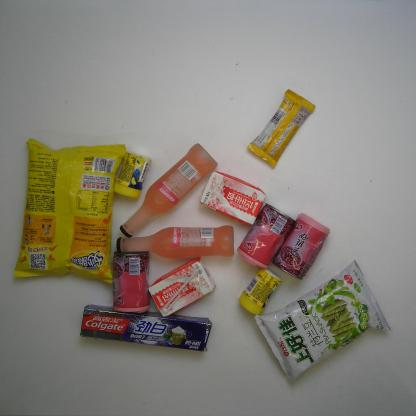Alcohol: (116, 140, 219, 240), (112, 224, 239, 260)
Canned Food: (233, 202, 297, 273), (270, 212, 332, 285), (107, 247, 157, 315)
Chocolate: (245, 88, 318, 170)
Gum: (104, 150, 157, 204), (236, 263, 283, 319)
Milk: (146, 257, 219, 321), (196, 170, 267, 228)
Personal Hygiene: (78, 301, 216, 354)
Puffed Food: (252, 258, 394, 385), (12, 136, 128, 288)
